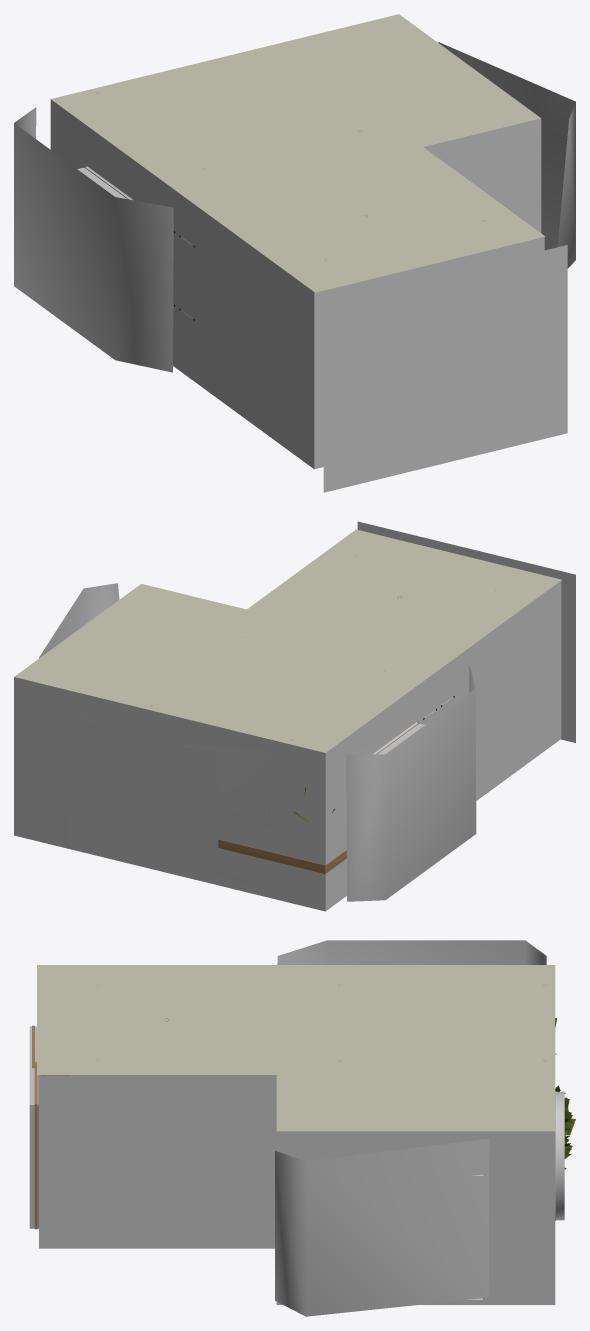
Rendered from taocichangjing01.fbx.
3 views of the same model, one above another, from view 1: azimuth 30°, elevation 25°; view 2: azimuth 150°, elevation 25°; view 3: azimuth 270°, elevation 25° (orthographic). The views are drawn at different scales.
Parts seen in each view (by area): view 1: taocichangjing_wuding, waijing_01, taocichangjing_qiang, waijing_02, waijing_03; view 2: taocichangjing_wuding, taocichangjing_qiang, waijing_04, waijing_02, waijing_01, waijing_03, taocichangjing_zhuozi01; view 3: taocichangjing_wuding, taocichangjing_qiang, waijing_03, waijing_02, chuangkuang.
Boxes of the visible parts, left/top/right/bottom form: taocichangjing_wuding: left=51, top=14, right=545, bottom=292; waijing_01: left=323, top=245, right=567, bottom=492; taocichangjing_qiang: left=50, top=99, right=544, bottom=469; waijing_02: left=14, top=107, right=173, bottom=372; waijing_03: left=438, top=42, right=575, bottom=268; taocichangjing_wuding: left=14, top=529, right=561, bottom=752; taocichangjing_qiang: left=14, top=581, right=561, bottom=911; waijing_04: left=66, top=718, right=218, bottom=881; waijing_02: left=346, top=665, right=476, bottom=901; waijing_01: left=357, top=521, right=575, bottom=742; waijing_03: left=39, top=583, right=119, bottom=658; taocichangjing_zhuozi01: left=218, top=839, right=346, bottom=873; taocichangjing_wuding: left=37, top=965, right=555, bottom=1131; taocichangjing_qiang: left=29, top=1026, right=564, bottom=1304; waijing_03: left=275, top=1138, right=489, bottom=1316; waijing_02: left=277, top=940, right=546, bottom=964; chuangkuang: left=32, top=1025, right=37, bottom=1229.
Bounding box in the file's own units: 9.56 × 3.87 × 10.56.
